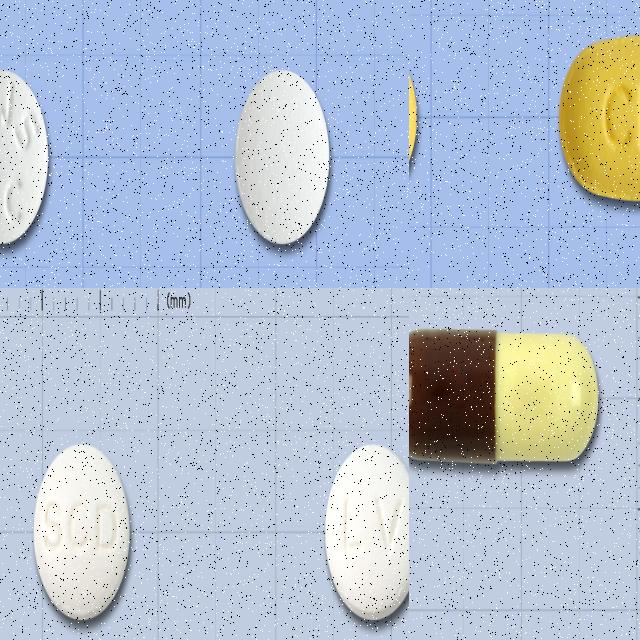Kymoxin Cap: (409, 329, 599, 464)
Levostar -500mg: (33, 441, 132, 621), (325, 441, 409, 621)
Procin Tab: (236, 69, 329, 244), (0, 70, 49, 245)
Rulid Tab: (557, 32, 640, 201)
